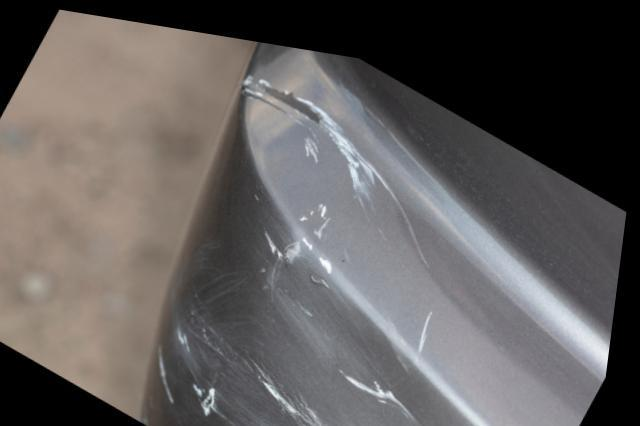scratch: (145, 61, 451, 426)
